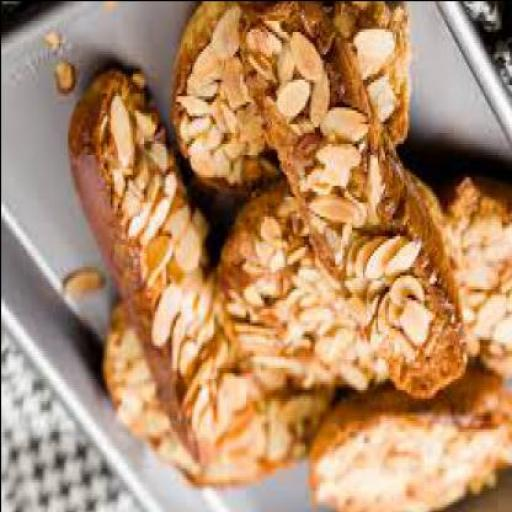biodegradable: (238, 3, 468, 403), (70, 70, 238, 464), (172, 2, 409, 202), (102, 286, 307, 492), (217, 185, 387, 400), (308, 369, 510, 511), (436, 176, 510, 382), (63, 271, 104, 305), (56, 58, 76, 96), (43, 28, 63, 53)
